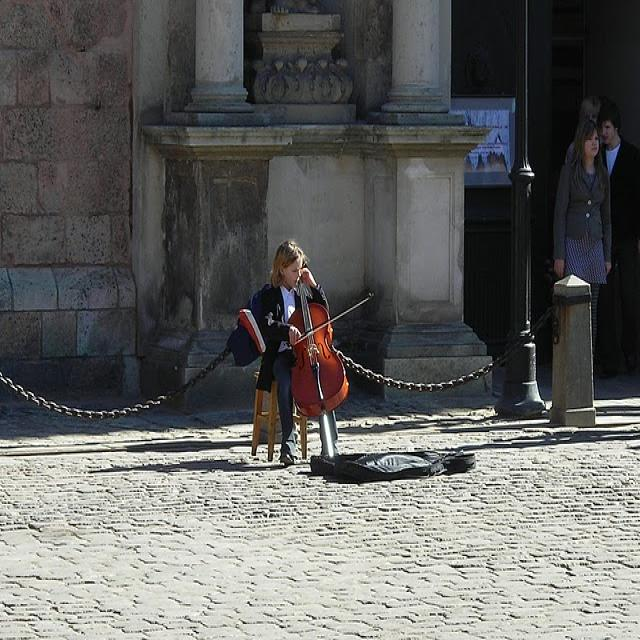cello: (294, 253, 349, 425)
